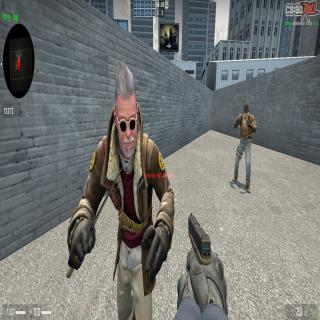T-Body: (66, 133, 175, 320), (232, 113, 257, 194)
T-Head: (112, 60, 139, 158), (243, 104, 249, 119)
